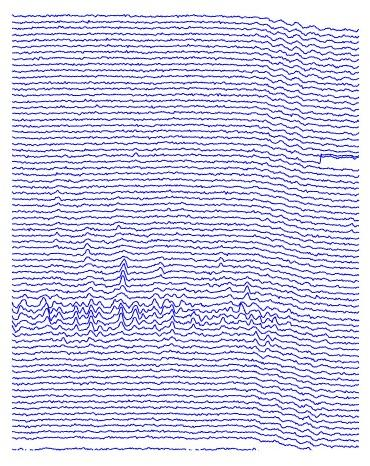defect: (186, 302, 281, 346), (114, 298, 175, 337), (69, 298, 100, 339), (36, 291, 54, 333), (114, 258, 129, 292), (240, 277, 258, 303)
